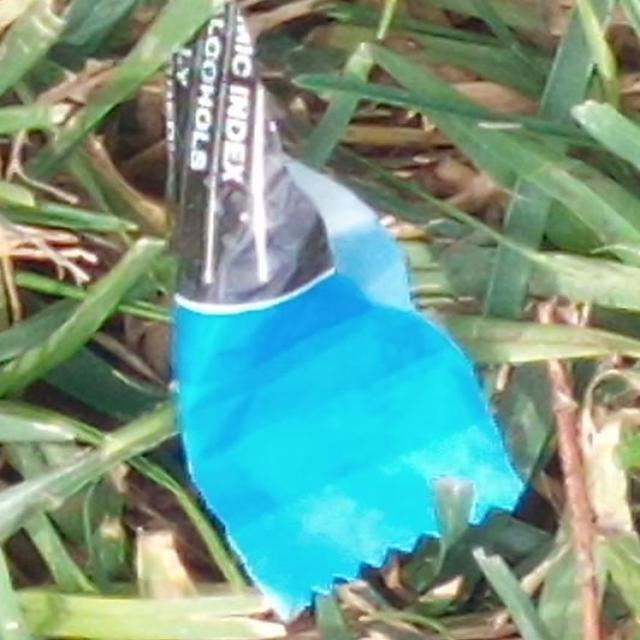litter: (129, 0, 555, 617)
